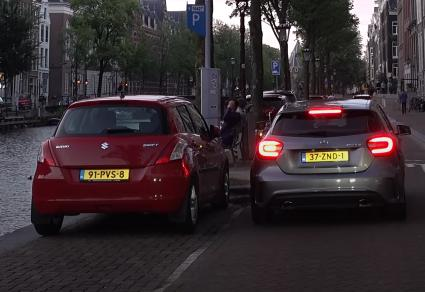license-plate: (79, 168, 130, 182), (301, 150, 350, 163)
